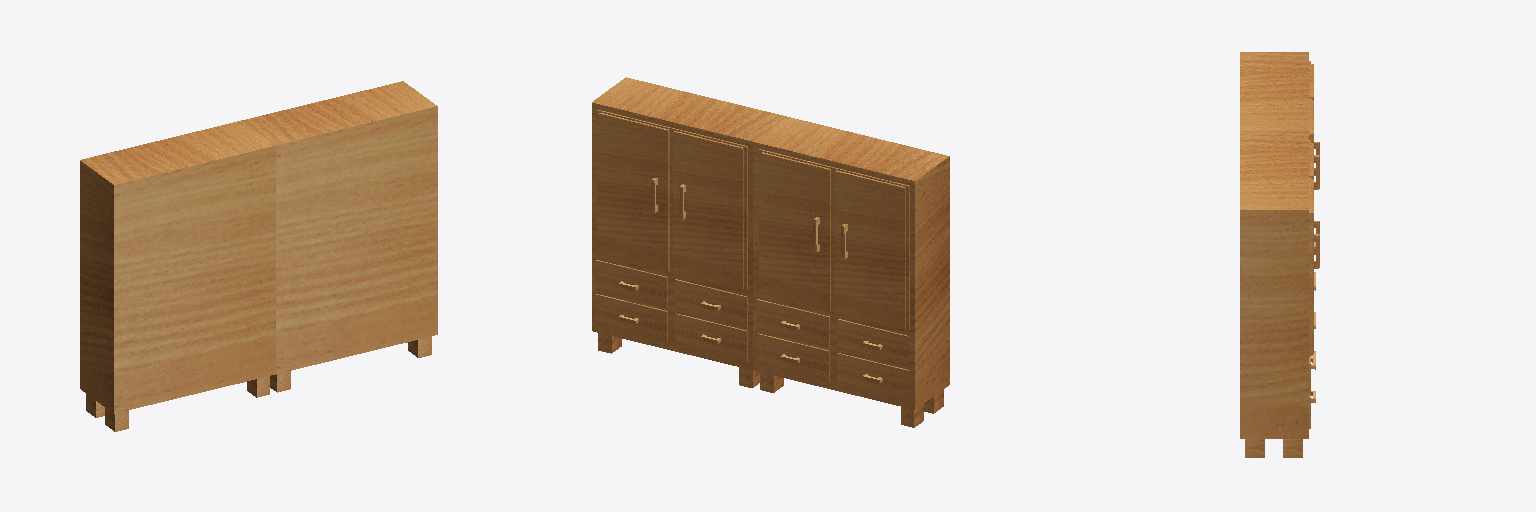
3 views of the same model, side by side, from view 1: azimuth 30°, elevation 25°; view 2: azimuth 150°, elevation 25°; view 3: azimuth 270°, elevation 25° (orthographic).
Parts seen in each view (by area): view 1: Armario_Cube.011_Cube.003; view 2: Armario_Cube.011_Cube.003; view 3: Armario_Cube.011_Cube.003.
Boxes of the visible parts, <box> form: Armario_Cube.011_Cube.003: <box>80,81,437,431</box>; Armario_Cube.011_Cube.003: <box>592,77,949,427</box>; Armario_Cube.011_Cube.003: <box>1240,52,1319,457</box>.
Size of the model in its own units: 31.28 by 23.05 by 6.63.
Materials: 1 (1 with a texture image).